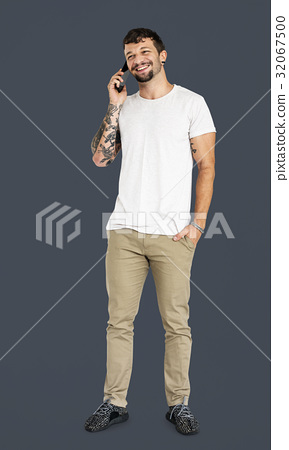phone: (111, 60, 134, 100)
talk: (104, 43, 164, 105)
